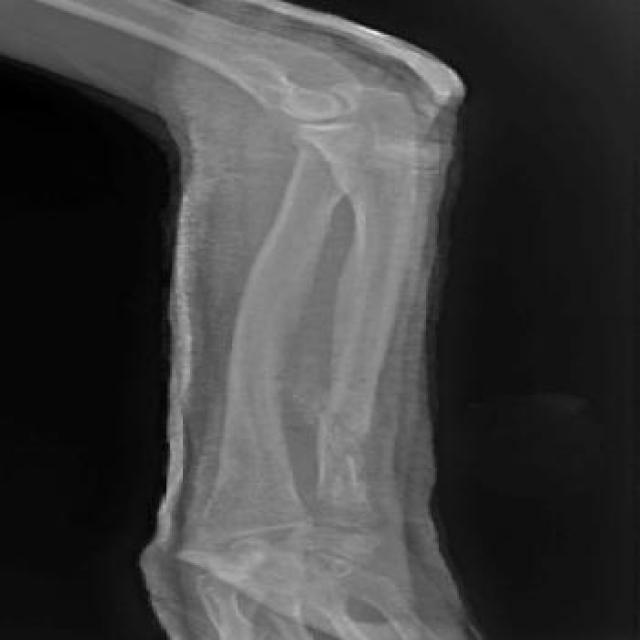fracture: (306, 396, 394, 454)
